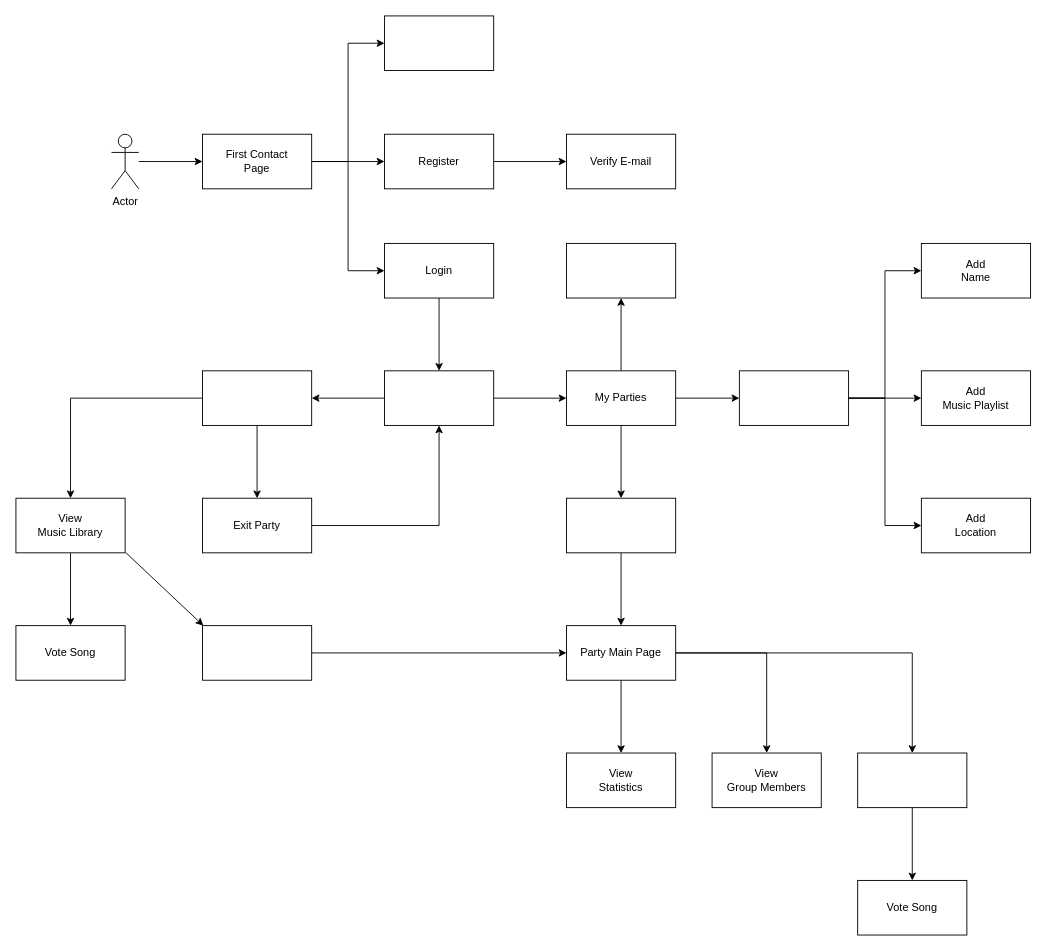
Image size: 1047x951. Some labels were removed from this diagram. Here are the shapes that lost their labels. From the top down, the centre of each, then its label:
[439,43]: Change Password
[621,270]: Delete Party
[257,397]: Join Party
[439,397]: Main Page
[793,397]: Create Party
[621,525]: Start Party
[257,652]: View Details
[912,780]: View Songs
